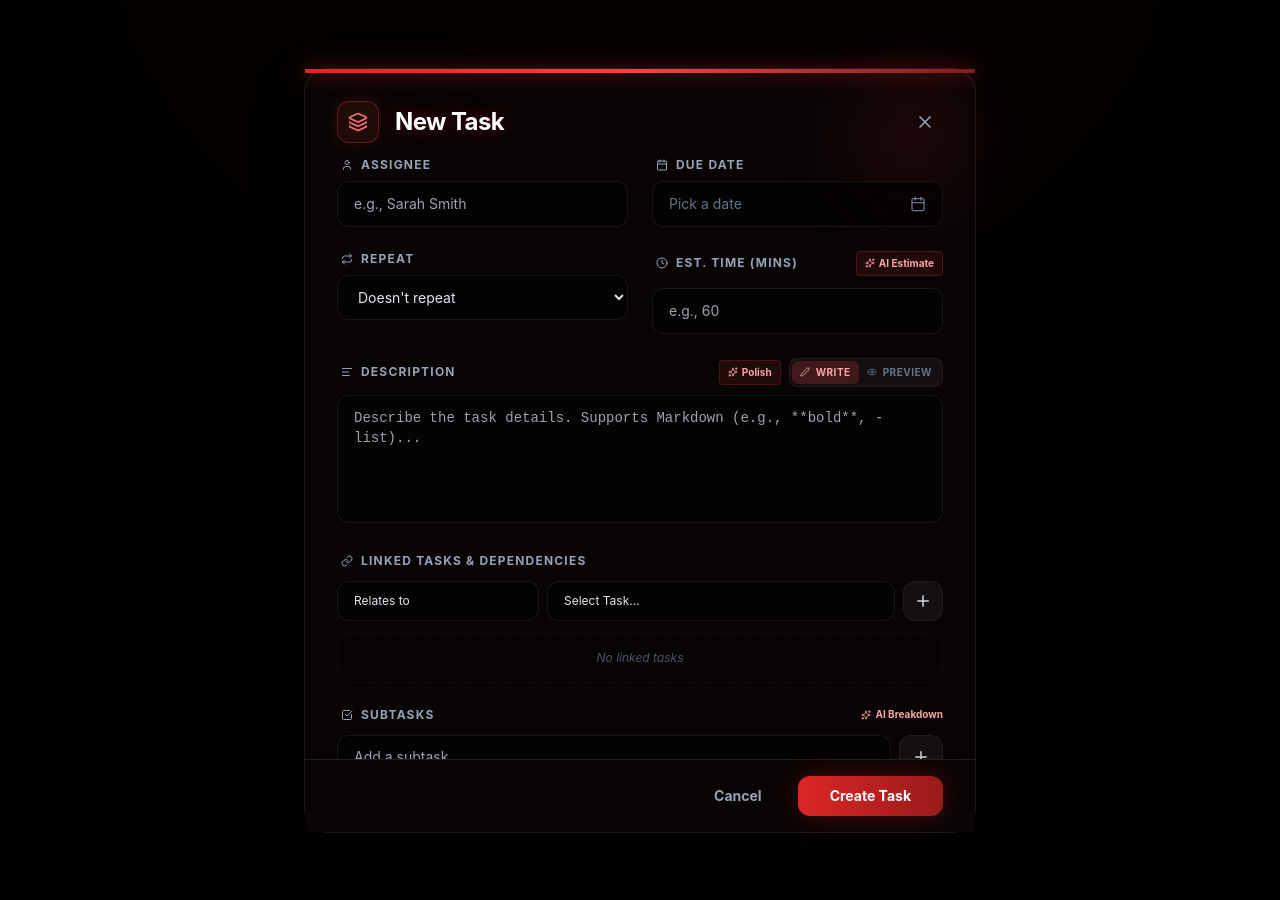
Scenario: TaskFormModal AI Integration › handles Polish description
The image size is (1280, 900).
(page scrolled)
Replace the text in the text box with placeholder "Describe the task details" with "rough draft" at (640, 458), box x1=337 y1=394 x2=943 y2=522
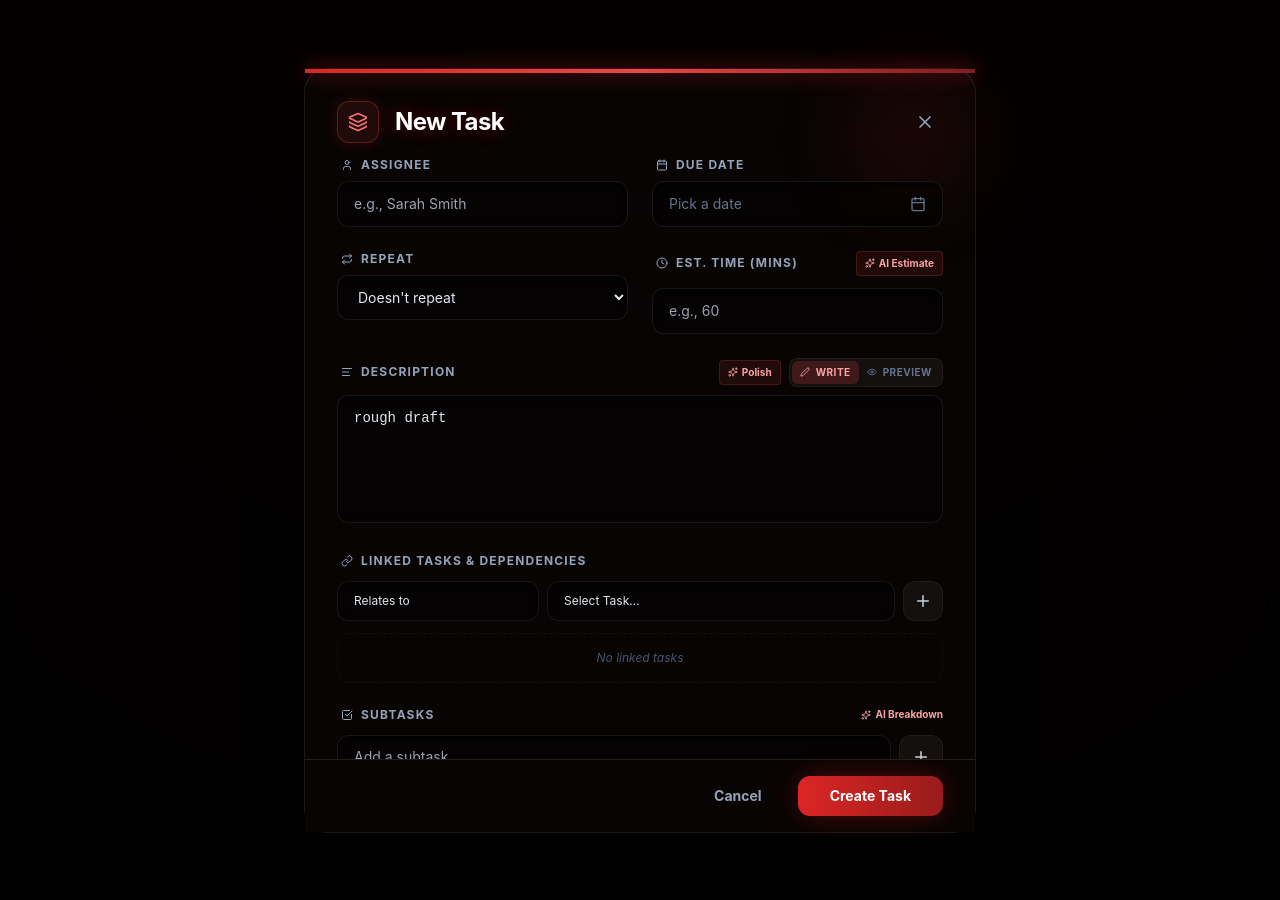
Click the button "Polish" at (750, 372), box x1=719 y1=360 x2=781 y2=384
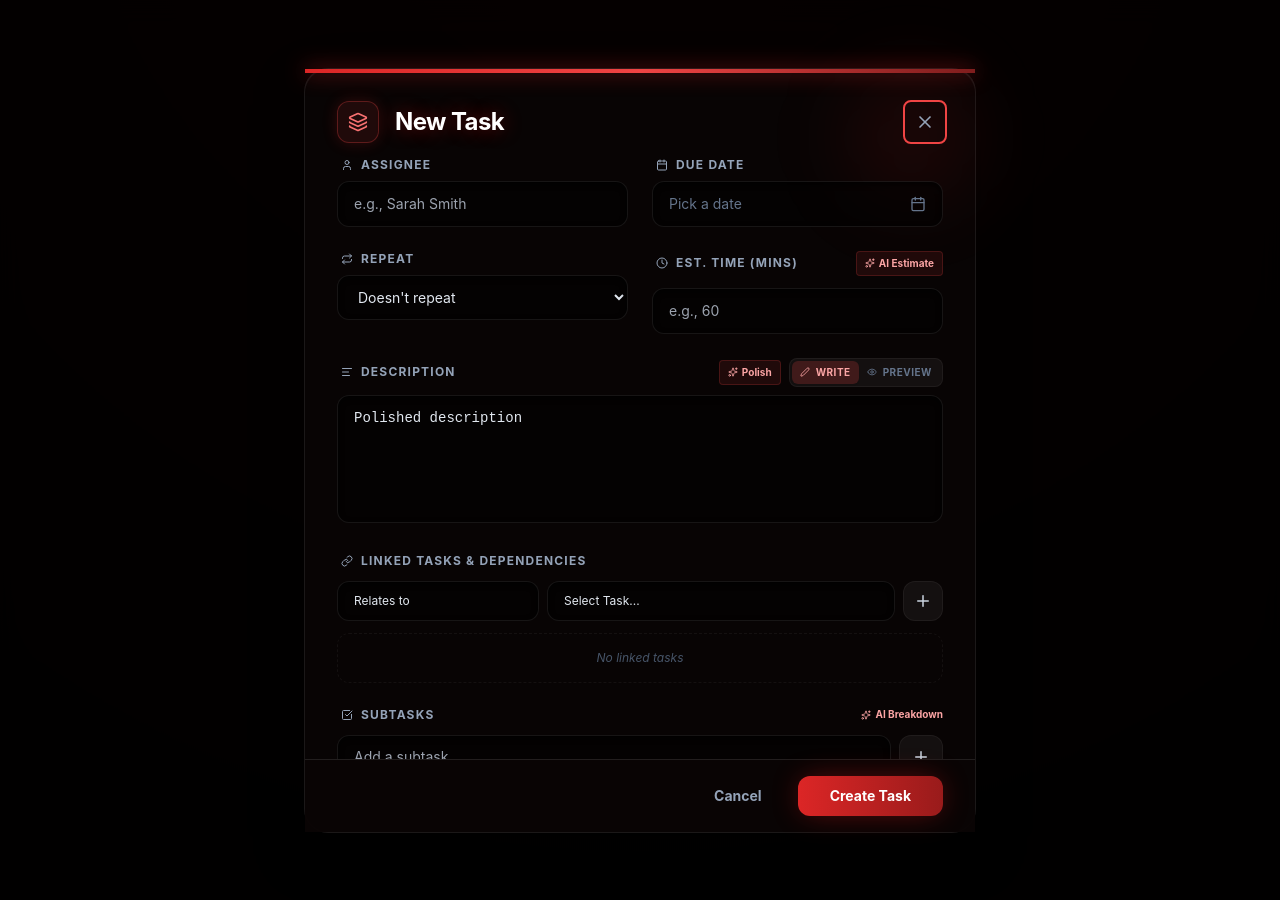
Check: the text box showing "Polished description" is shown, box x1=337 y1=394 x2=943 y2=522
